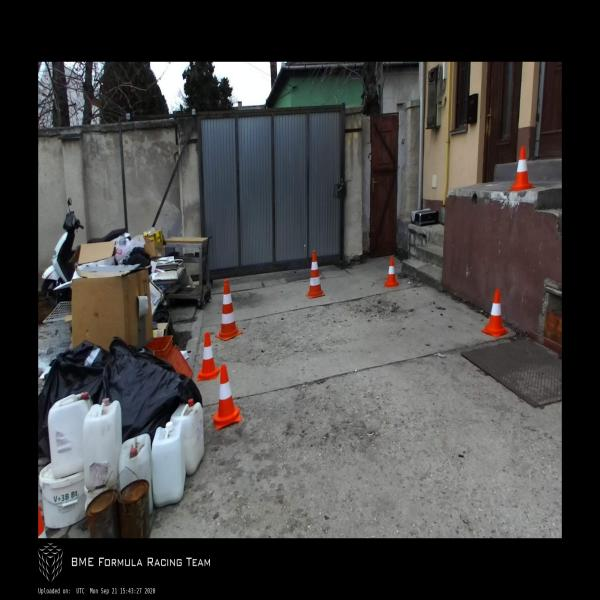large_orange_cone: (216, 280, 242, 342), (306, 250, 325, 299)
orange_cone: (212, 364, 242, 432), (482, 290, 508, 338), (197, 333, 220, 382), (510, 148, 534, 190), (383, 258, 398, 288)
